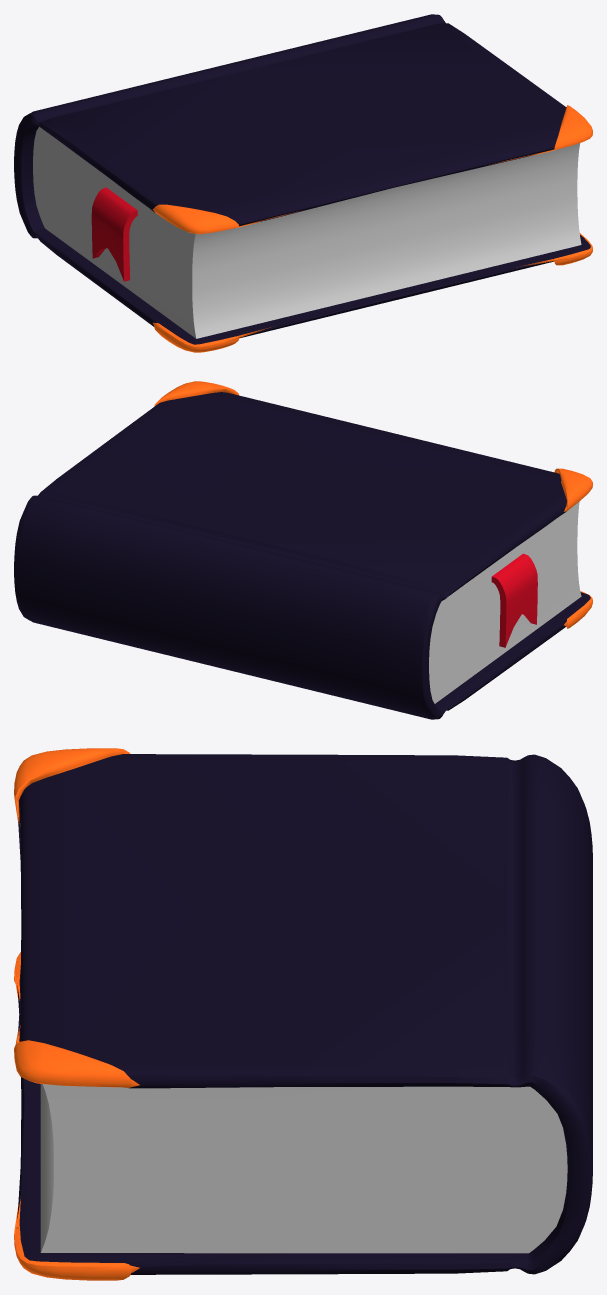
The model's file is Book.fbx.
3 renders of one model, top to bottom at view 1: azimuth 30°, elevation 25°; view 2: azimuth 150°, elevation 25°; view 3: azimuth 270°, elevation 25°, orthographic. The views are drawn at different scales.
Parts seen in each view (by area): view 1: Book; view 2: Book; view 3: Book.
Part boxes in pixels (bbox=[...]): Book: bbox=[14, 14, 592, 352]; Book: bbox=[14, 381, 592, 719]; Book: bbox=[14, 748, 592, 1280].
Size of the model in its own units: 152 by 47.71 by 114.
